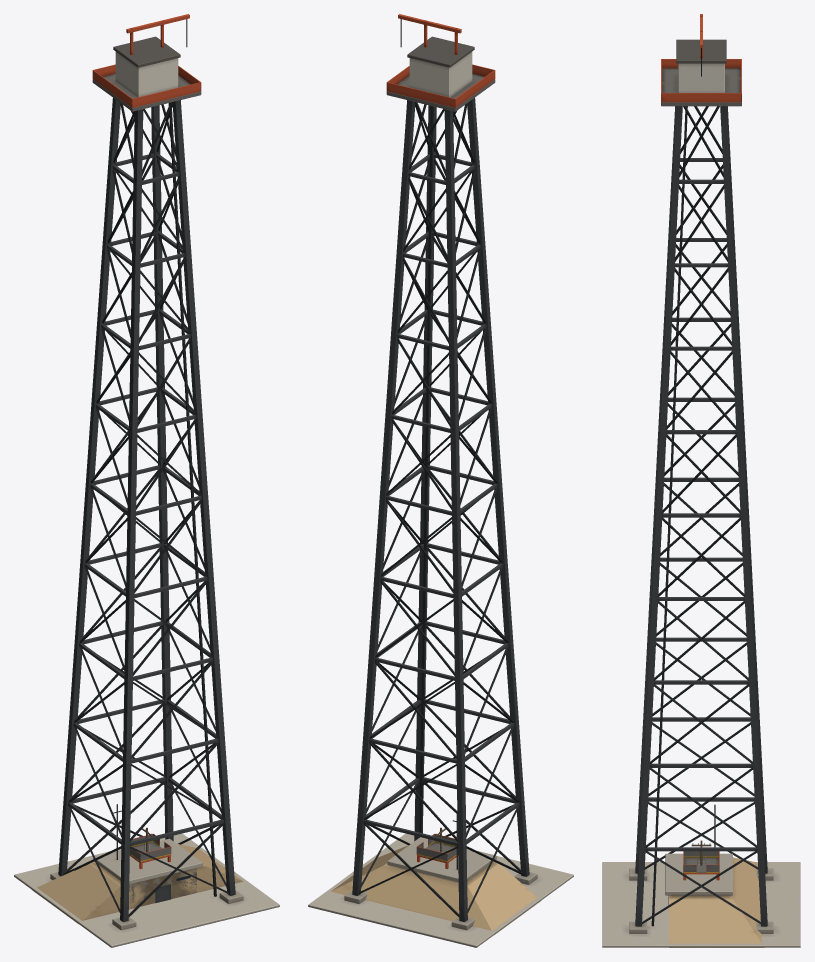
The model's file is station-nine.glb.
3 views of the same model, side by side, from view 1: azimuth 30°, elevation 25°; view 2: azimuth 150°, elevation 25°; view 3: azimuth 270°, elevation 25° (orthographic).
Parts seen in each view (by area): view 1: shot-tower, far-bunker, camera-tower; view 2: shot-tower, far-bunker, camera-tower; view 3: shot-tower, far-bunker, camera-tower.
Part boxes in pixels (x1,y1,x2,y2): shot-tower: (14,14,279,947); far-bunker: (32,804,243,924); camera-tower: (130,833,171,869); shot-tower: (308,14,573,947); far-bunker: (331,814,540,935); camera-tower: (416,833,456,869); shot-tower: (602,14,800,947); far-bunker: (665,804,764,947); camera-tower: (683,851,719,880).
Bounding box in the file's own units: 22 × 108 × 22.
